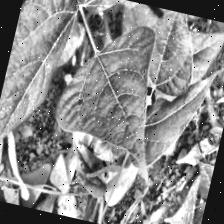ALS: (54, 12, 186, 185), (67, 0, 173, 32)
